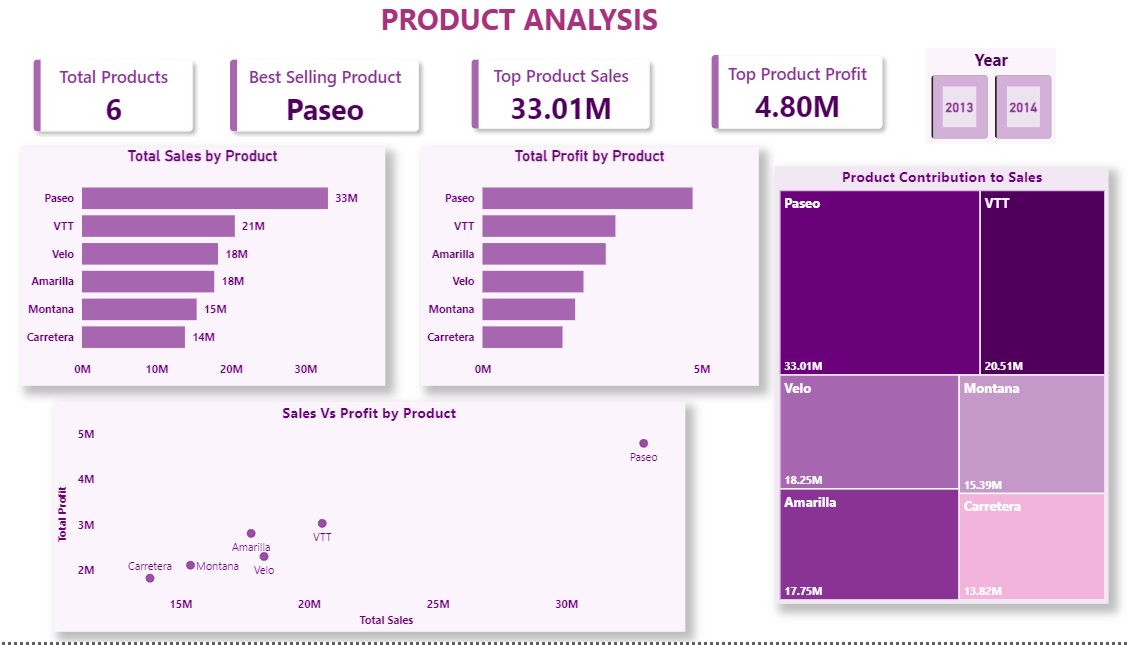

This screenshot's page, from the dashboard's own definition file:
{"tool":"powerbi","page":{"name":"Page 2","canvas":[1280,720],"ordinal":1},"visuals":[{"type":"cardVisual","fields":{"Data":["Count(financials.Product)"]},"box":[16.7,43.3,235,138.3],"z":0},{"type":"cardVisual","fields":{"Data":["Min(financials.Product)"]},"box":[235,43.3,268.3,138.3],"z":1000},{"type":"cardVisual","fields":{"Data":["Sum(financials.Sales)"]},"box":[503.3,43.3,256.7,135],"z":2000},{"type":"cardVisual","fields":{"Data":["Sum(financials.Profit)"]},"box":[770,38.3,248.3,140],"z":3000},{"type":"clusteredBarChart","fields":{"Category":["financials.Product"],"Y":["Sum(financials.Sales)"]},"box":[31.7,170,405,265],"z":4000},{"type":"clusteredBarChart","fields":{"Category":["financials.Product"],"Y":["Sum(financials.Profit)"]},"box":[476.7,170,375,265],"z":5000},{"type":"scatterChart","title":"Sales Vs Profit by Product","fields":{"X":["Sum(financials.Sales)"],"Y":["Sum(financials.Profit)"],"Category":["financials.Product"]},"box":[68.3,453.3,701.7,255],"z":6000},{"type":"treemap","title":"Product Contribution to Sales","fields":{"Group":["financials.Product"],"Values":["Sum(financials.Sales)"]},"box":[870.7,192.3,371,486.1],"z":7000},{"type":"advancedSlicerVisual","fields":{"Values":["financials.Year"]},"box":[1038,60,144,106],"z":8000},{"type":"textbox","box":[0,0,1280,60],"z":9000}]}

Visuals, with their boxes in screenshot pixels (x1, y1, x2, y2), scaled from the page's 1280x720 canvas onto the 1128x645 screenshot:
cardVisual - Count(financials.Product): box(15, 39, 222, 163)
cardVisual - Min(financials.Product): box(207, 39, 444, 163)
cardVisual - Sum(financials.Sales): box(444, 39, 670, 160)
cardVisual - Sum(financials.Profit): box(679, 34, 897, 160)
clusteredBarChart - financials.Product x Sum(financials.Sales): box(28, 152, 385, 390)
clusteredBarChart - financials.Product x Sum(financials.Profit): box(420, 152, 751, 390)
"Sales Vs Profit by Product" scatterChart: box(60, 406, 679, 635)
"Product Contribution to Sales" treemap: box(767, 172, 1094, 608)
advancedSlicerVisual - financials.Year: box(915, 54, 1042, 149)
textbox: box(0, 0, 1127, 54)
